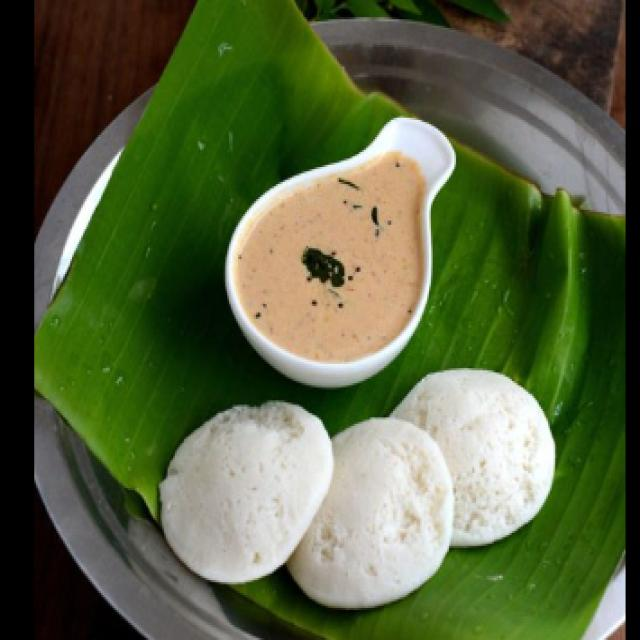peanut chutney: (233, 168, 432, 344)
